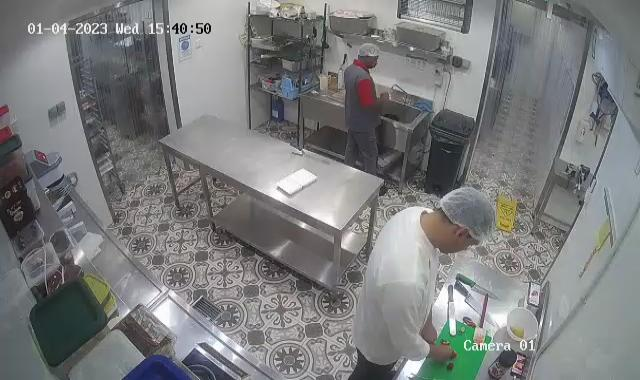hairnet: (439, 187, 497, 245), (354, 40, 382, 61)
